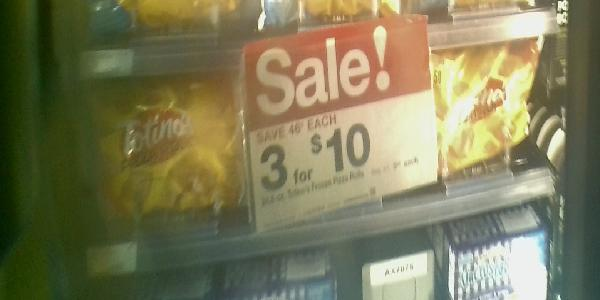icecream: (86, 78, 244, 241), (428, 38, 540, 177)
